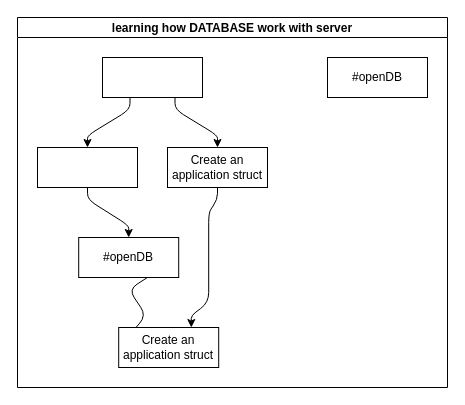
This 465x405 diagram has some shape labels left out. The centre of each missing label's shape, as x and y in pixels:
"#main" goes at pixel 152 77.
"Open the Database(pool)" goes at pixel 87 167.
